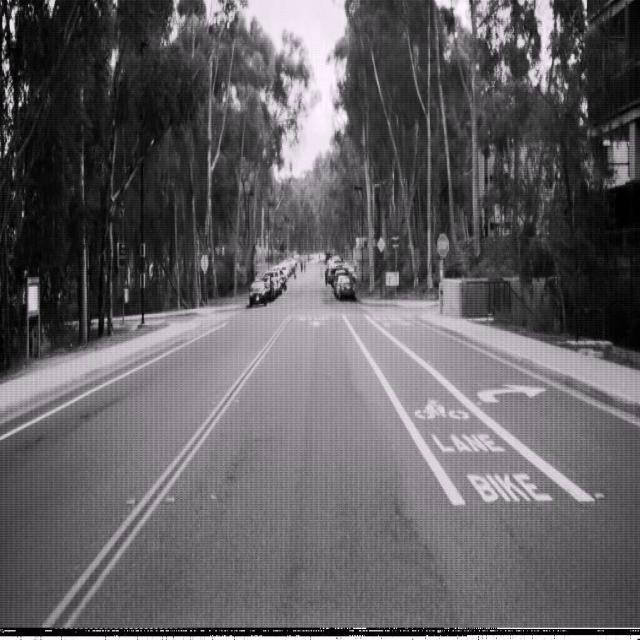stop_sign: (436, 232, 449, 256)
